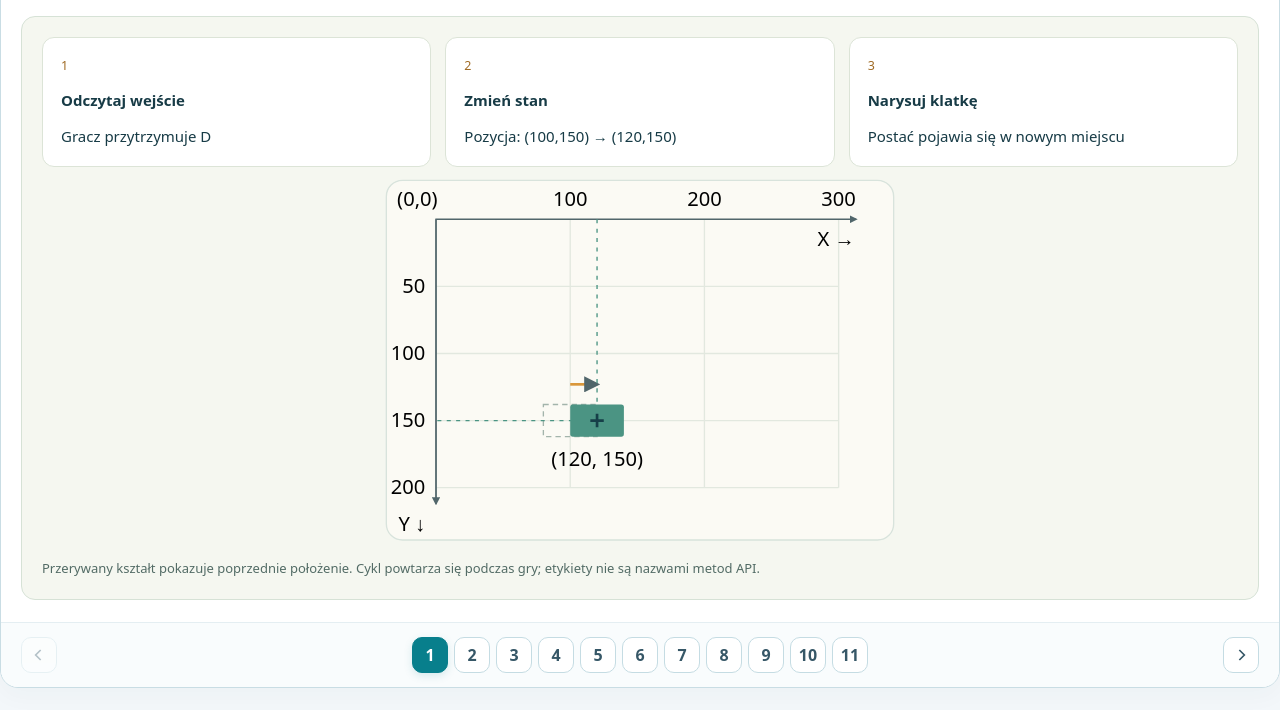
Scenario: scene pagination switches loop, game and object diagrams
The width and height of the screenshot is (1280, 710).
(page scrolled)
Click the button named "Następny krok" at (1241, 655), box x1=1223 y1=637 x2=1259 y2=673
(page scrolled)
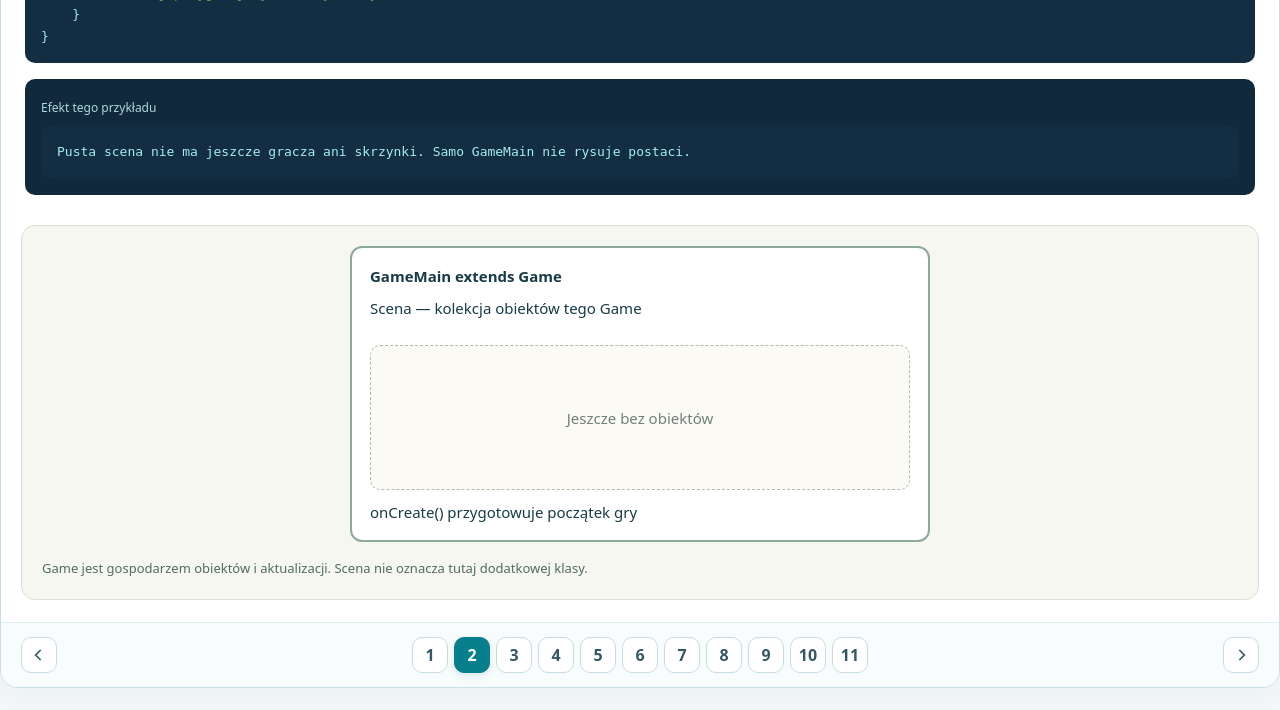
Expected: the element named "Schemat: Game jest gospodarzem sceny" is shown, x1=21 y1=225 x2=1259 y2=600
Click the button named "Następny krok" at (1241, 655), box x1=1223 y1=637 x2=1259 y2=673
(page scrolled)
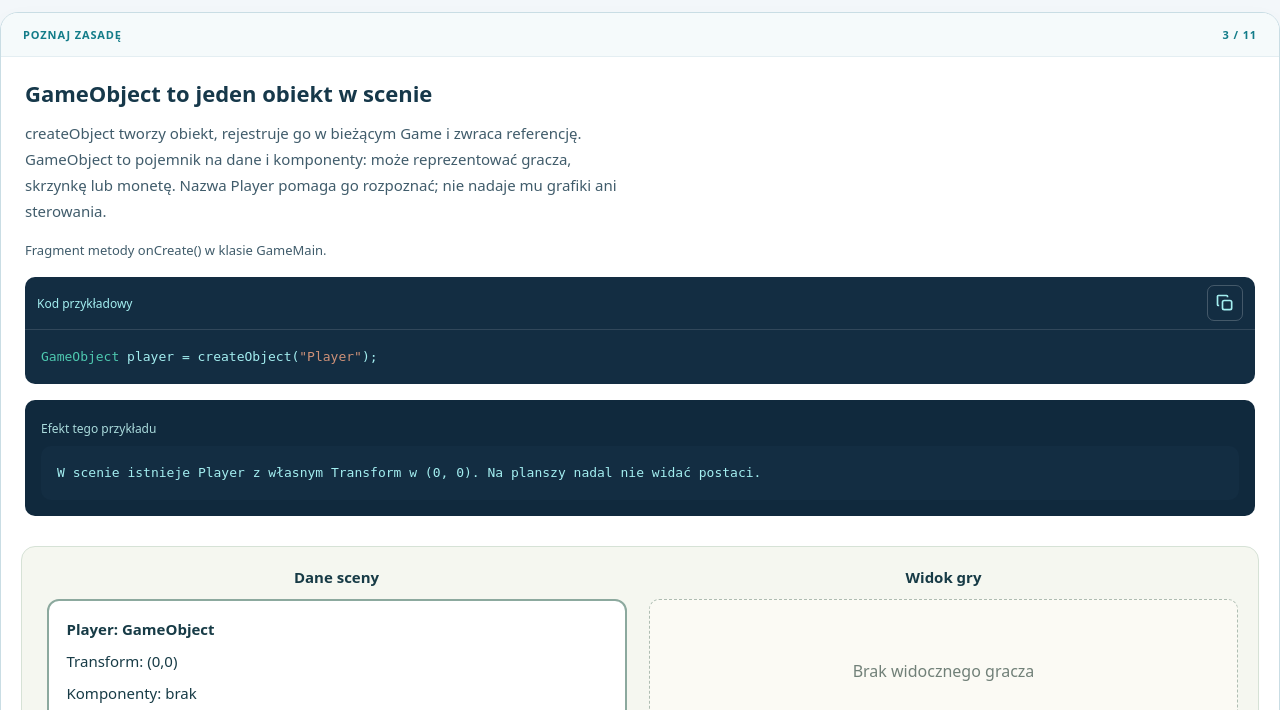
Expected: the heading "GameObject to jeden obiekt w scenie" is shown, x1=25 y1=78 x2=432 y2=108
